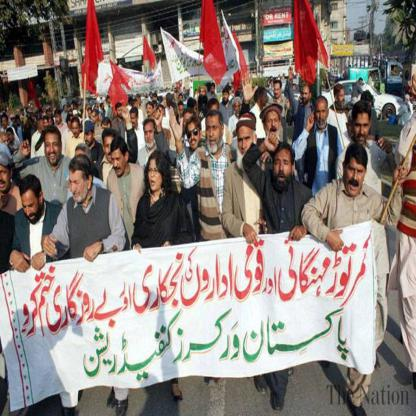face: (346, 159, 366, 196), (274, 150, 292, 188), (70, 171, 90, 203), (22, 191, 40, 221), (148, 159, 164, 192), (206, 117, 222, 149), (45, 134, 61, 165), (239, 126, 255, 157), (355, 114, 371, 144), (112, 151, 126, 176), (266, 112, 280, 137), (104, 138, 117, 164), (1, 167, 13, 195), (188, 124, 200, 149), (316, 105, 328, 128), (145, 123, 156, 144), (184, 113, 195, 132), (336, 90, 346, 105), (84, 132, 94, 146), (350, 120, 357, 138), (72, 123, 80, 138), (303, 88, 310, 104), (261, 94, 269, 107), (131, 116, 138, 128), (275, 84, 281, 98), (235, 104, 242, 115), (92, 112, 98, 123), (39, 120, 45, 131), (147, 108, 154, 117), (119, 108, 125, 118), (178, 106, 184, 116), (63, 61, 68, 72), (8, 132, 14, 141), (3, 139, 9, 147), (223, 94, 229, 102), (56, 115, 61, 124), (70, 118, 75, 127), (3, 120, 8, 128), (201, 89, 206, 97), (192, 106, 197, 114), (237, 86, 242, 93), (88, 110, 92, 118), (103, 124, 108, 130), (75, 114, 79, 121), (53, 109, 57, 116), (211, 89, 216, 94), (17, 120, 21, 126), (99, 116, 103, 122), (48, 111, 52, 117), (180, 96, 184, 102), (45, 120, 48, 127), (27, 123, 30, 129), (29, 120, 32, 126), (175, 84, 178, 90), (406, 74, 409, 80), (49, 120, 52, 126), (162, 109, 165, 115), (22, 111, 25, 116), (136, 104, 139, 109), (138, 100, 141, 105), (108, 99, 111, 104), (17, 110, 20, 115), (175, 94, 178, 99), (294, 85, 297, 90), (40, 114, 43, 118), (154, 98, 157, 102), (166, 102, 168, 107), (71, 107, 74, 110), (187, 91, 190, 94), (66, 108, 68, 112), (79, 105, 81, 109), (406, 98, 408, 102), (151, 93, 153, 97), (15, 124, 18, 126), (98, 104, 100, 106)
